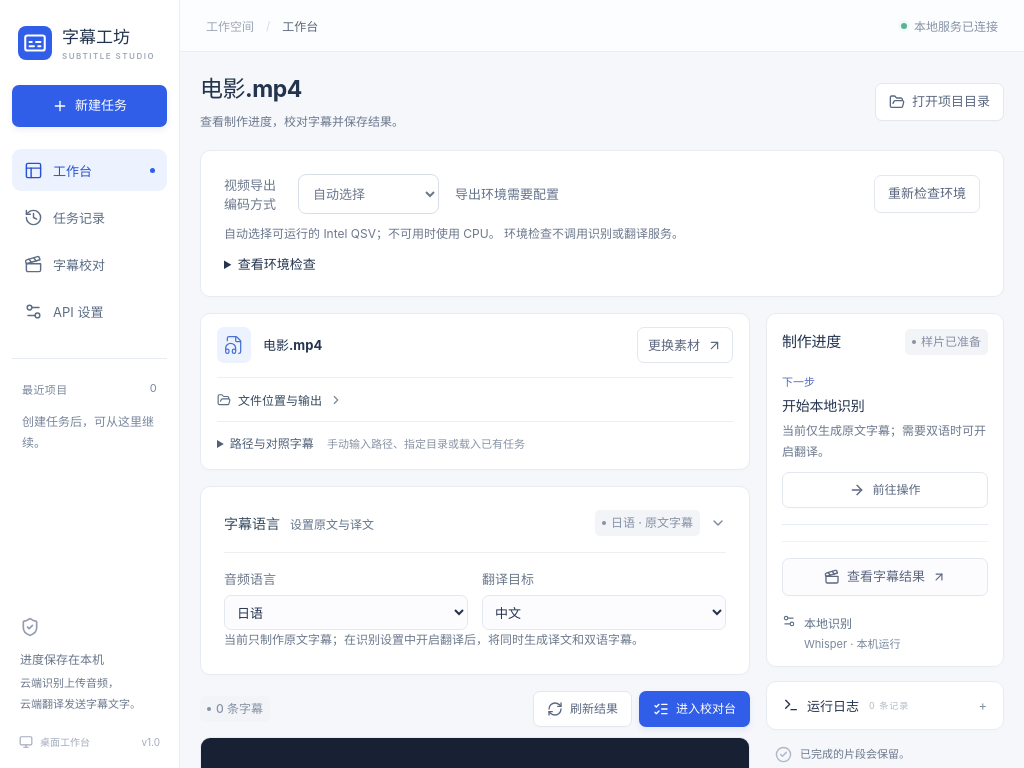
it: 桌面工作台的真实操作边界 › ignores an older same-project poll response after a newer busy response
Step 1. Click the button "更换素材" → [685, 345], box top-left (637, 327), bottom-right (733, 363)
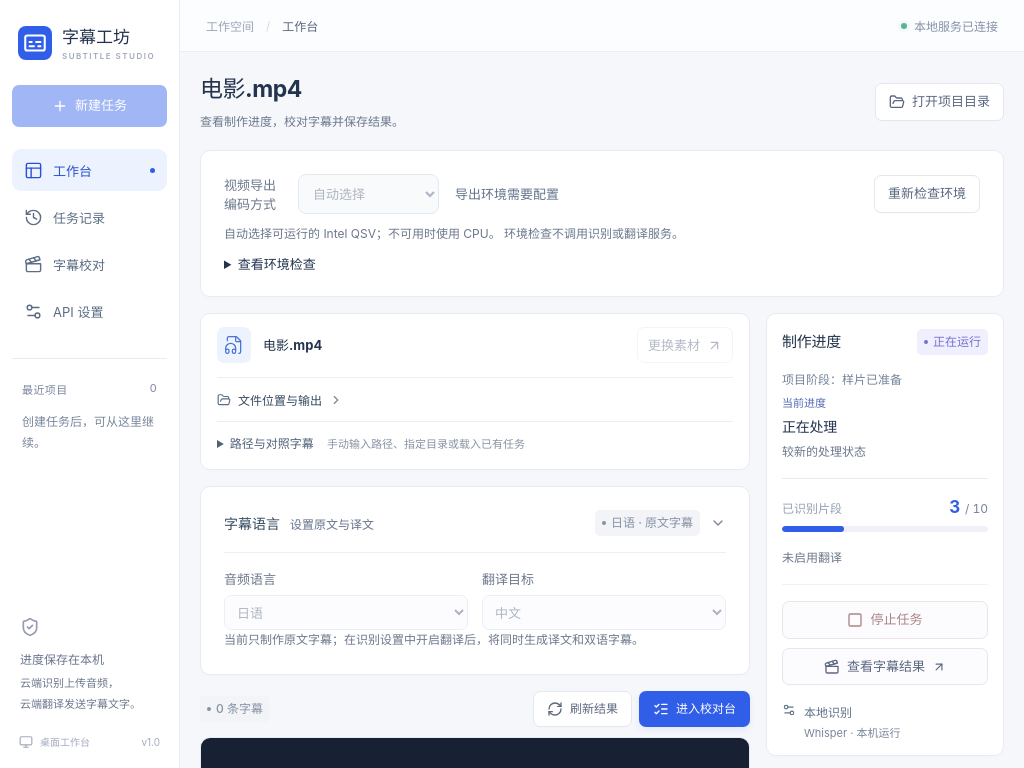
Now the text "较新的处理状态" is shown, box top-left (782, 444), bottom-right (866, 459)
